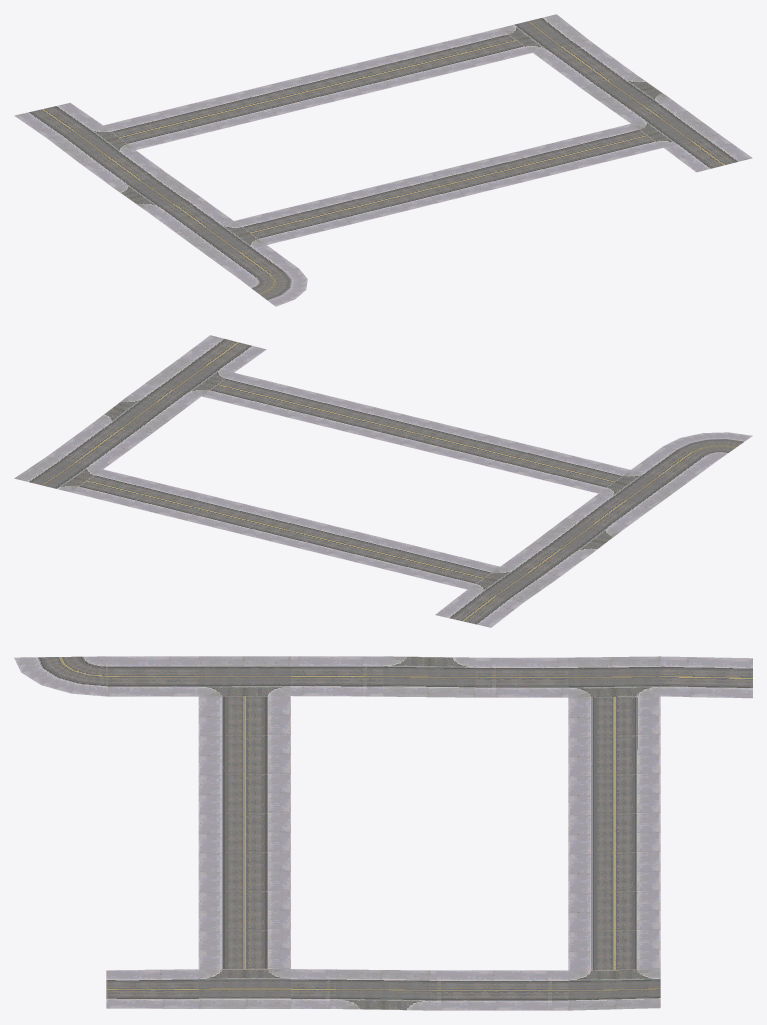
File: lodaseroad112.obj
3 renders of one model, top to bottom at view 1: azimuth 30°, elevation 25°; view 2: azimuth 150°, elevation 25°; view 3: azimuth 270°, elevation 25°, orthographic. The views are drawn at different scales.
Parts seen in each view (by area): view 1: lodasEroad112; view 2: lodasEroad112; view 3: lodasEroad112.
Boxes of the visible parts, left/top/right/bottom form: lodasEroad112: left=14, top=14, right=752, bottom=306; lodasEroad112: left=14, top=335, right=752, bottom=627; lodasEroad112: left=14, top=656, right=752, bottom=1010.
Bounding box in the file's own units: 180 × 0.7435 × 160.
2 materials, 2 textured.
